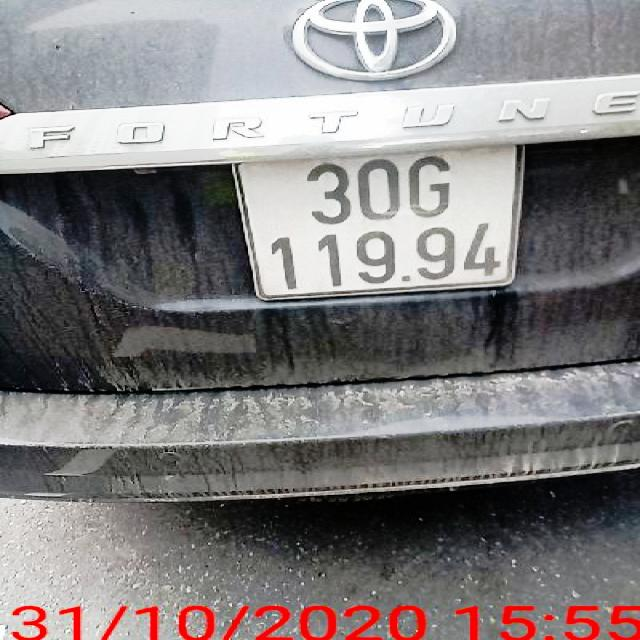license_plate: (235, 143, 521, 303)
